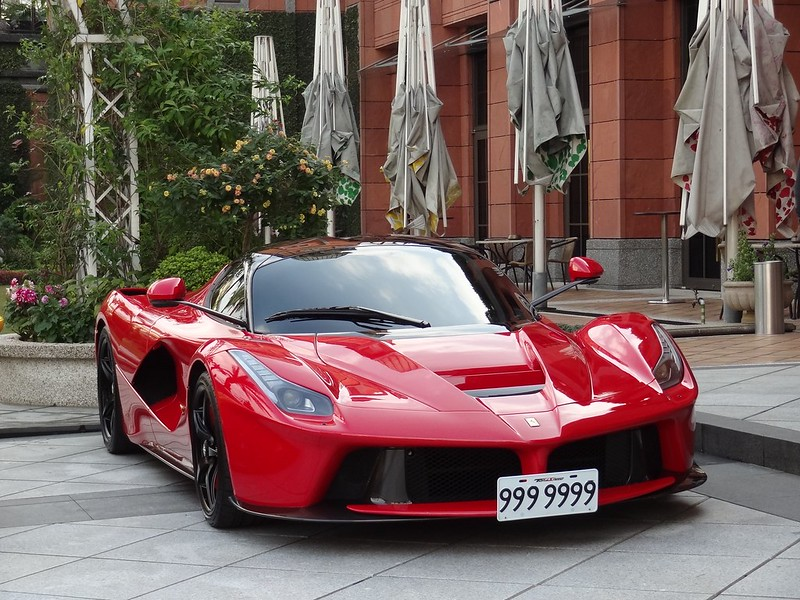car: (89, 233, 711, 541)
